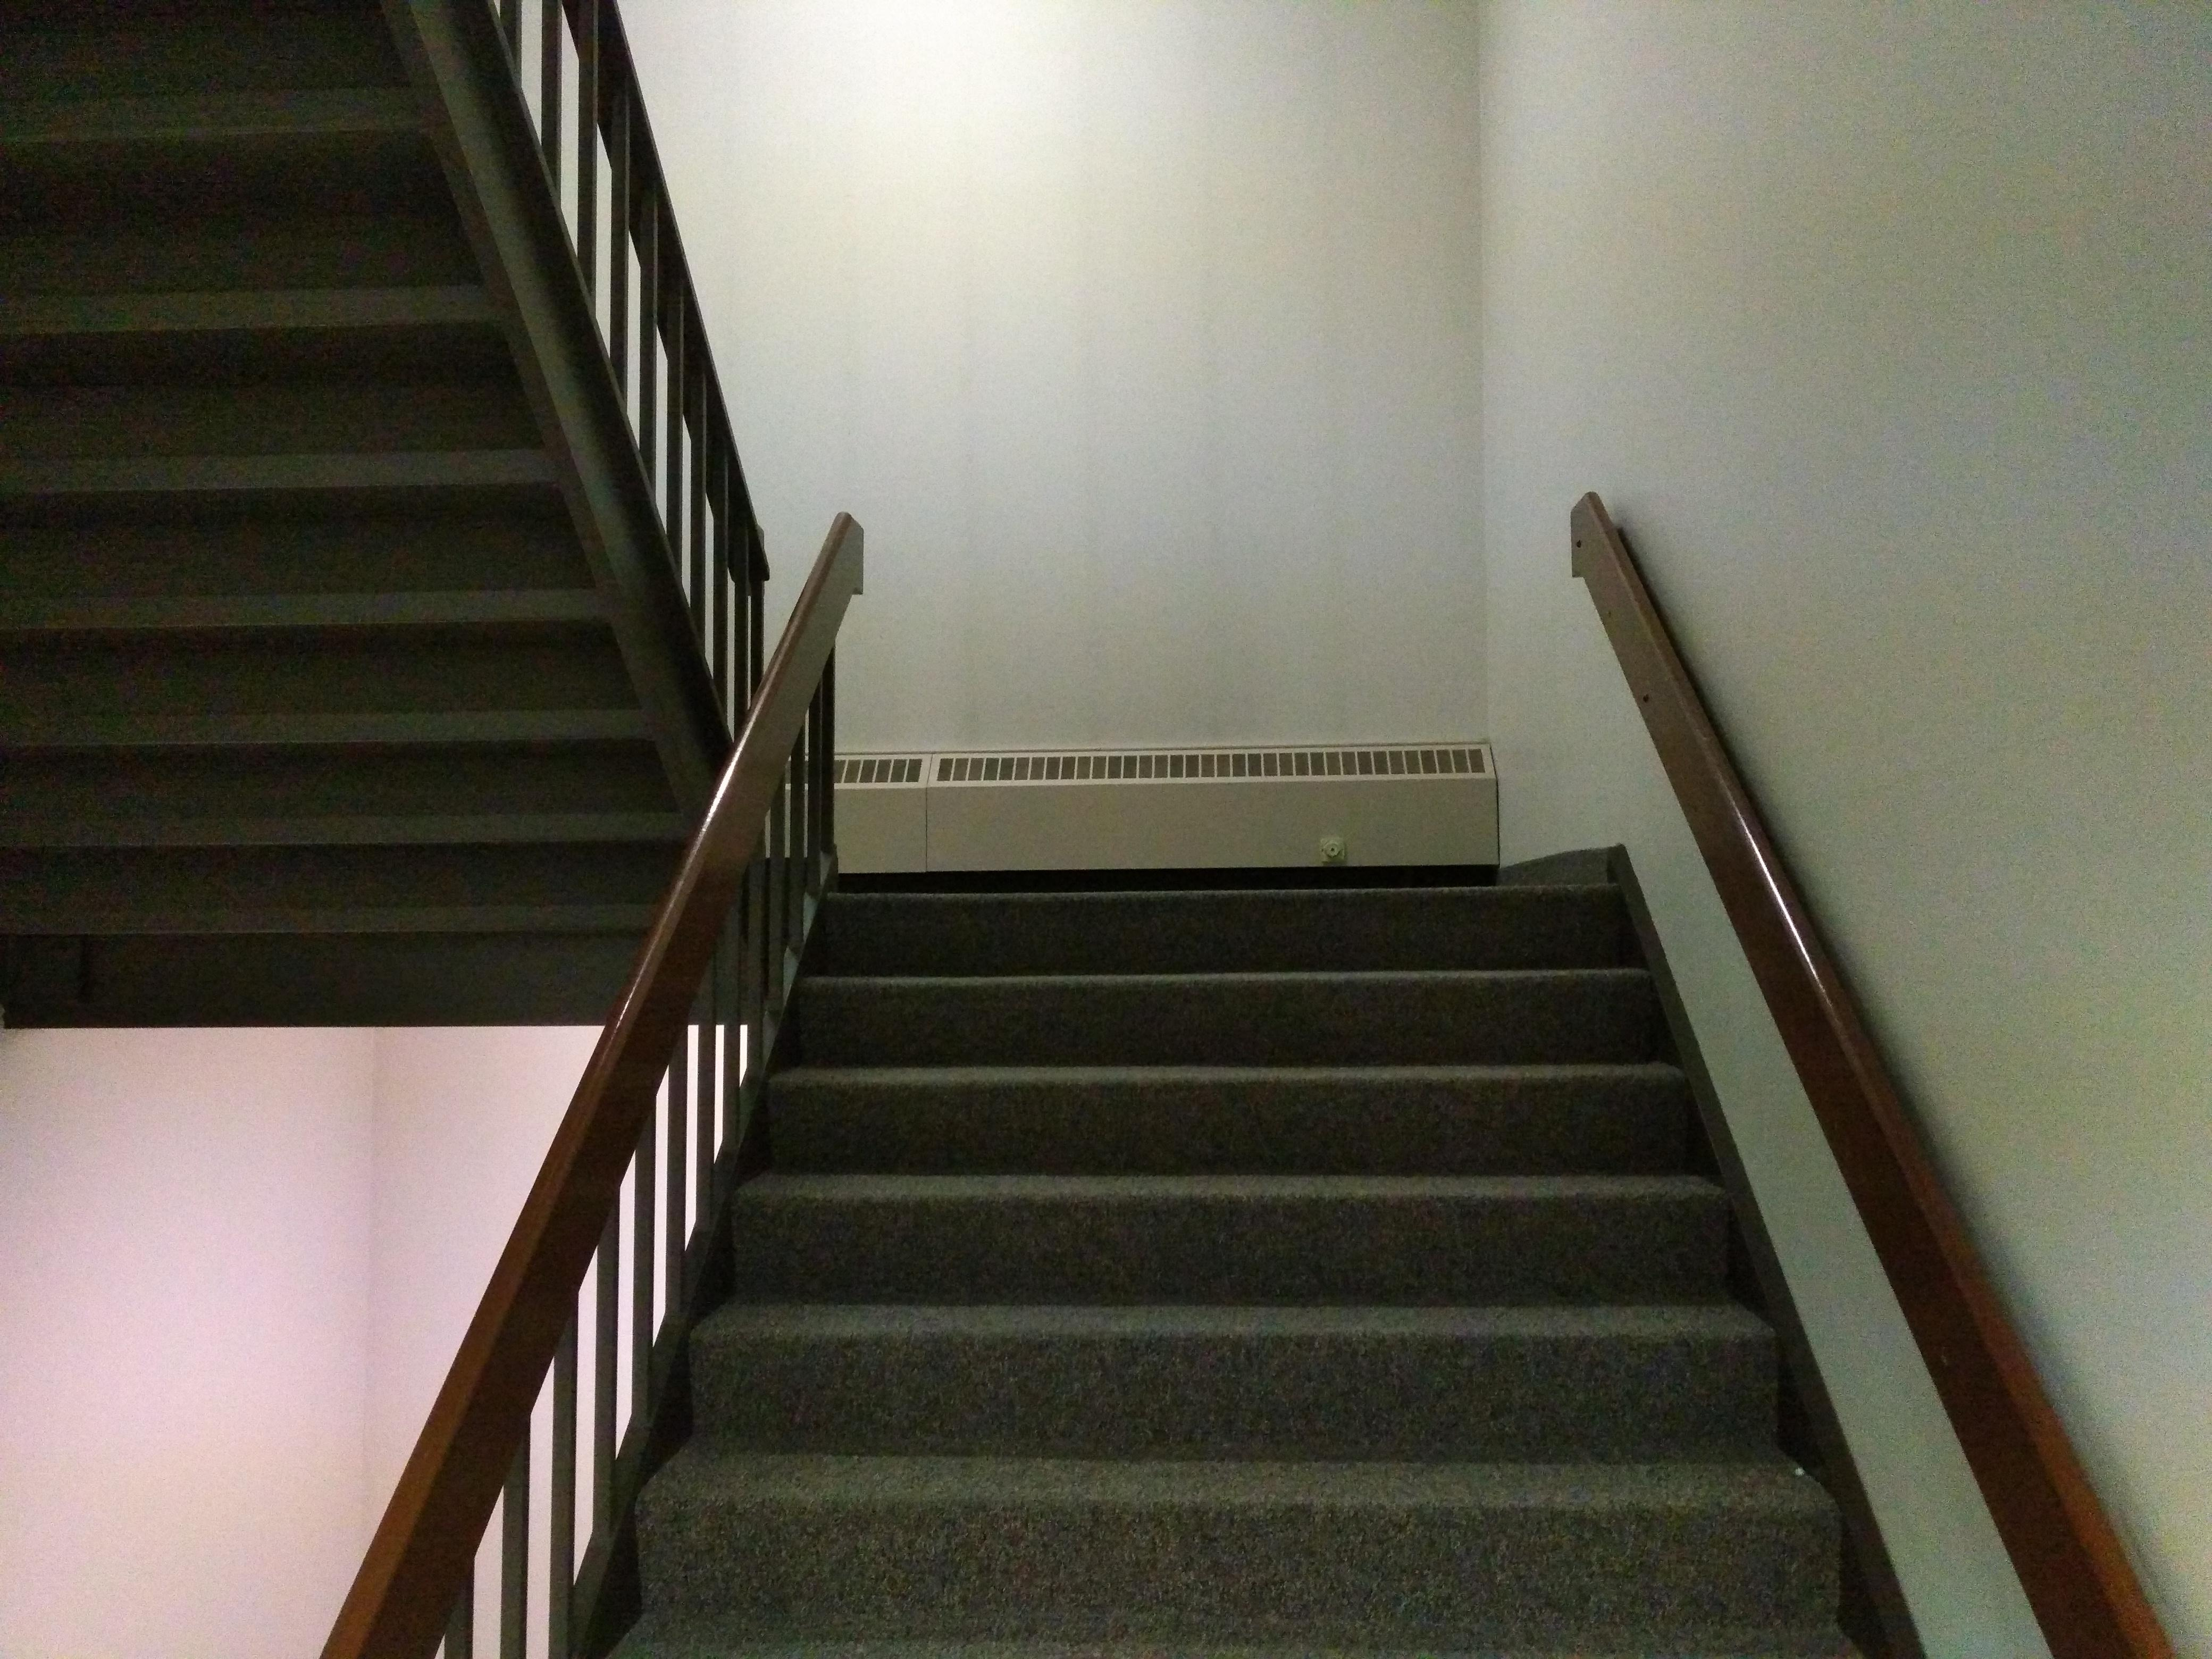stairs_up: (549, 880, 1925, 1659)
